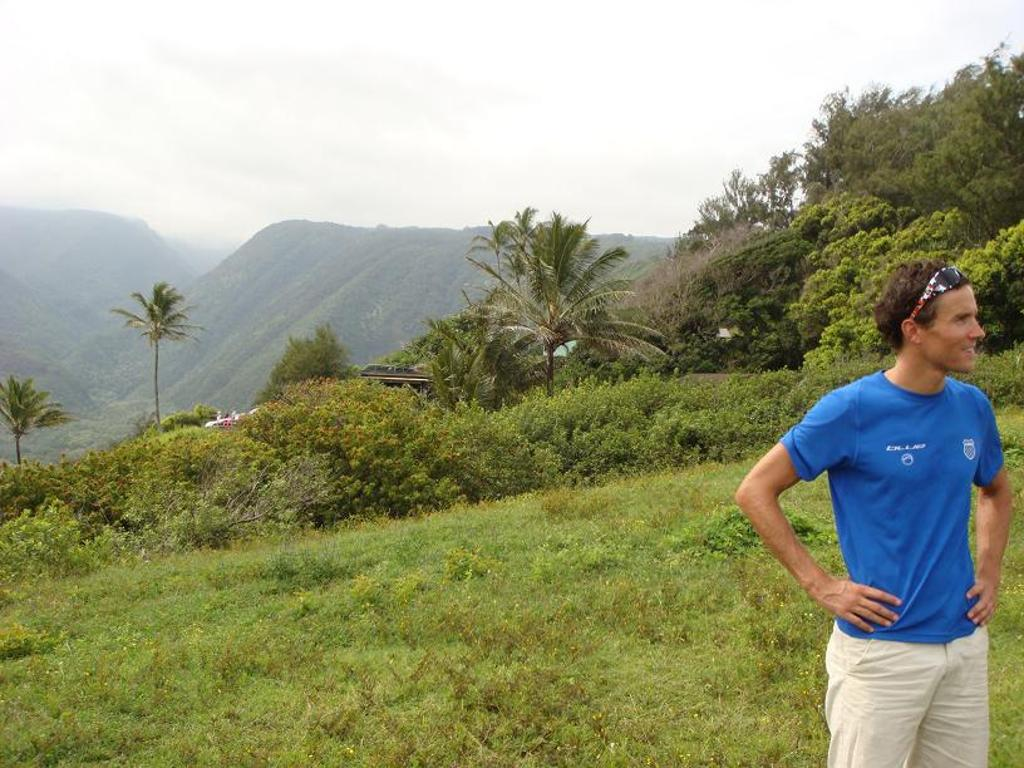face: (931, 283, 991, 367)
